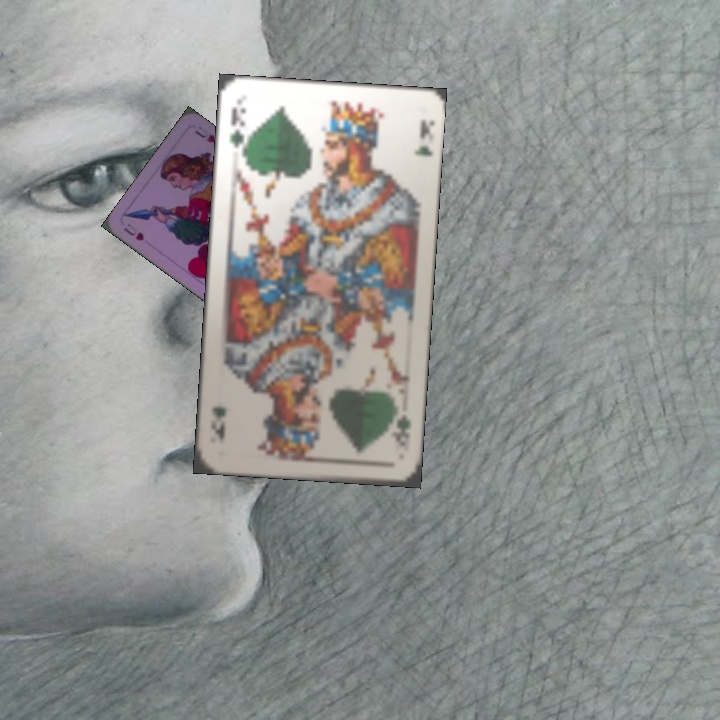GK: (225, 102, 249, 159), (388, 411, 414, 451)
HU: (120, 219, 147, 243)
